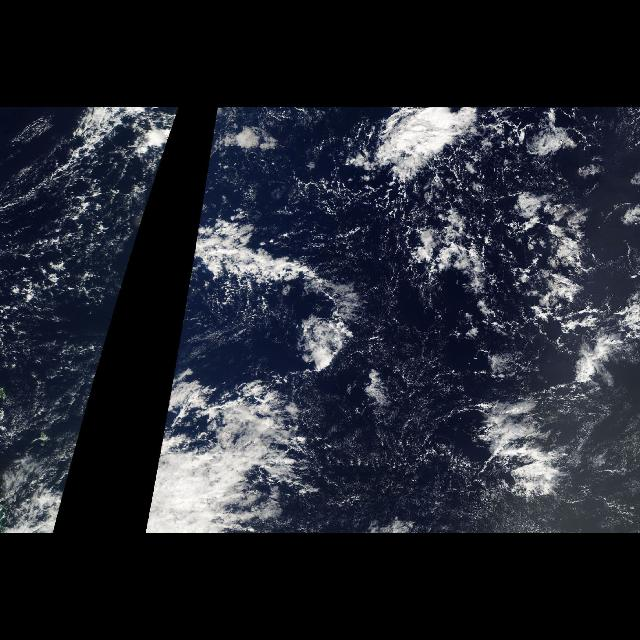Fish: (180, 208, 376, 362)
Sugar: (298, 370, 490, 532)
